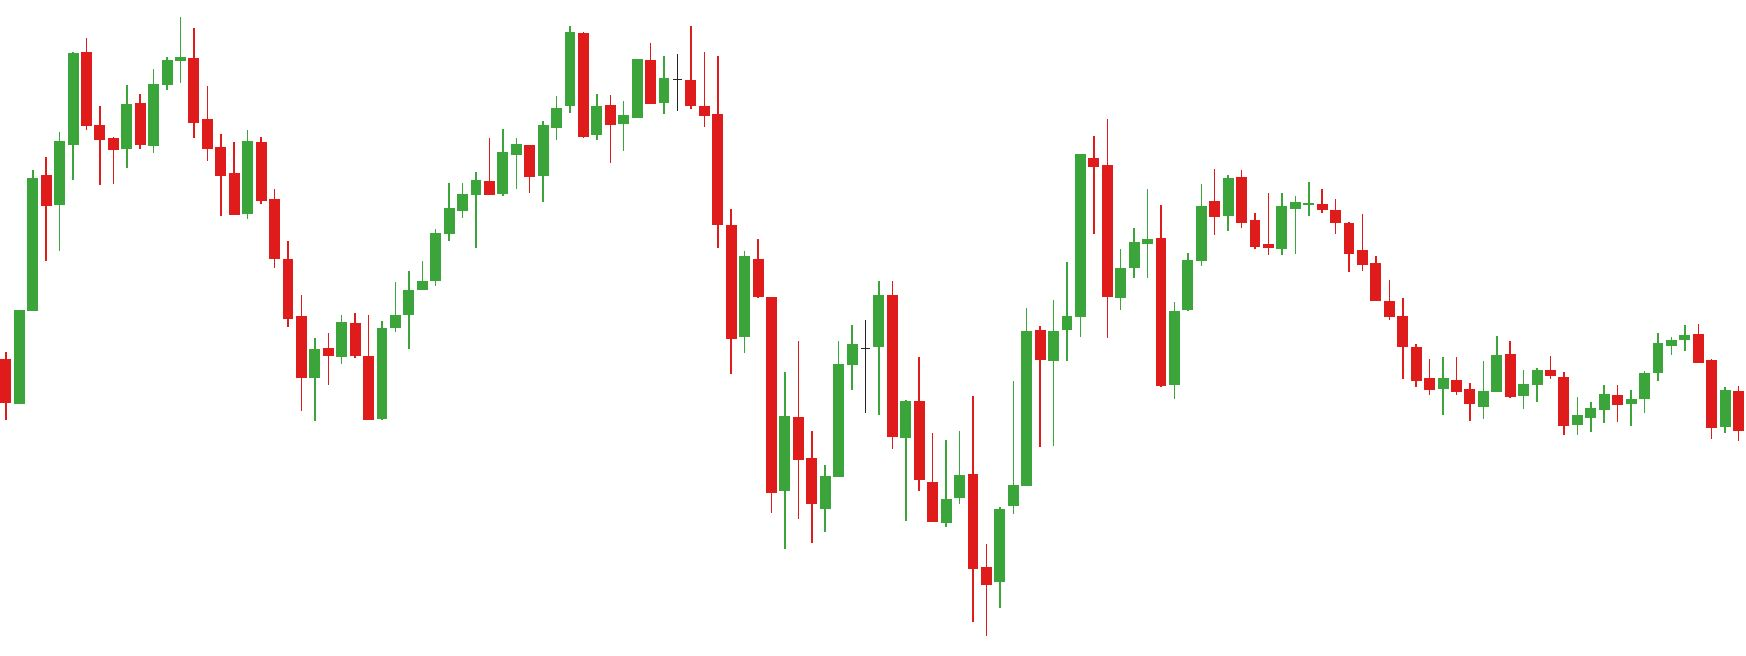buy: (779, 386, 1006, 638), (1061, 215, 1185, 401)
sell: (1547, 324, 1707, 401)
